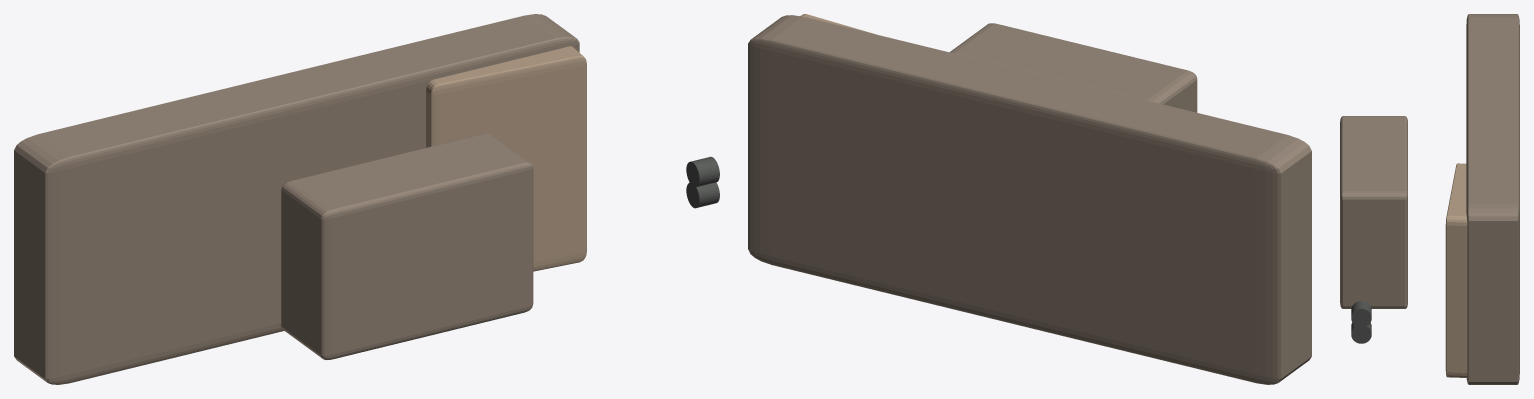
File: d-u12-dominion-assault-vehicle-lod2.glb
3 renders of one model, left to right at view 1: azimuth 30°, elevation 25°; view 2: azimuth 150°, elevation 25°; view 3: azimuth 270°, elevation 25°, orthographic. The views are drawn at different scales.
Visible parts, largest first — view 1: chassis_lower, assault_turret, chassis_nose, autocannon_muzzle_1, autocannon_muzzle_0; view 2: chassis_lower, assault_turret; view 3: chassis_lower, assault_turret, chassis_nose, autocannon_muzzle_1, autocannon_muzzle_0.
Part boxes in pixels (x1,y1,x2,y2): chassis_lower: (14, 14, 579, 384); assault_turret: (281, 133, 533, 360); chassis_nose: (426, 46, 586, 271); autocannon_muzzle_1: (686, 156, 719, 187); autocannon_muzzle_0: (686, 182, 719, 208); chassis_lower: (748, 15, 1311, 384); assault_turret: (950, 23, 1197, 112); chassis_lower: (1466, 14, 1519, 384); assault_turret: (1340, 116, 1407, 308); chassis_nose: (1445, 163, 1467, 377); autocannon_muzzle_1: (1351, 301, 1371, 327); autocannon_muzzle_0: (1351, 322, 1371, 343).
Size of what is drawn, in the model's own units: 6.61 by 2.39 by 2.2.
